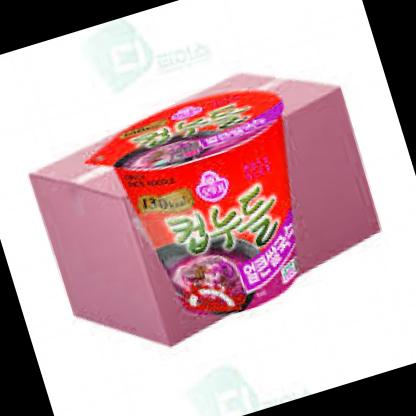Ramen: (103, 77, 331, 332)
